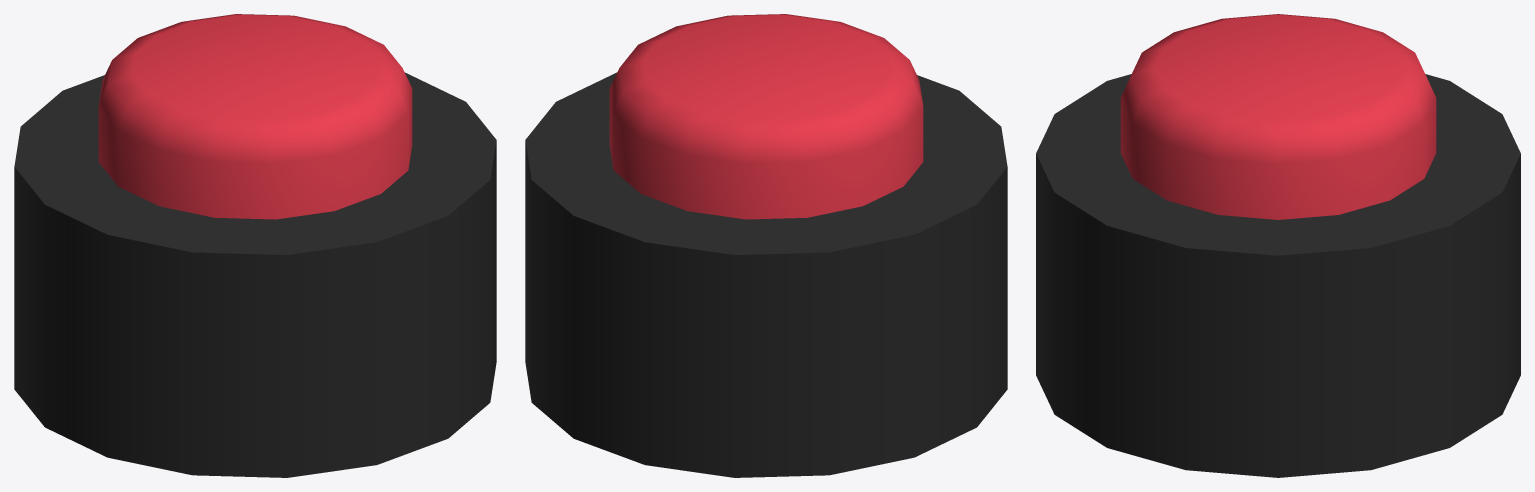
File: button.fbx
The picture shows the model from 3 angles, left to right: view 1: azimuth 30°, elevation 25°; view 2: azimuth 150°, elevation 25°; view 3: azimuth 270°, elevation 25°; orthographic projection.
Visible parts, largest first — view 1: button_base, Cylinder; view 2: button_base, Cylinder; view 3: button_base, Cylinder.
Boxes of the visible parts, box(x1,y1,x2,y2) form: button_base: box(14, 72, 496, 477); Cylinder: box(98, 14, 412, 219); button_base: box(525, 72, 1007, 477); Cylinder: box(609, 14, 923, 219); button_base: box(1036, 74, 1520, 477); Cylinder: box(1120, 14, 1436, 219).
Size of the model in its own units: 0.0423 by 0.0297 by 0.0423.
